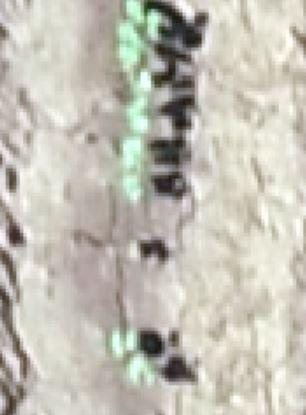cotton: (120, 26, 148, 59), (131, 351, 154, 380), (130, 100, 151, 128), (113, 333, 140, 354), (145, 14, 164, 41), (125, 138, 149, 159), (132, 67, 153, 90), (127, 1, 147, 22), (126, 177, 144, 200), (135, 244, 142, 260)
